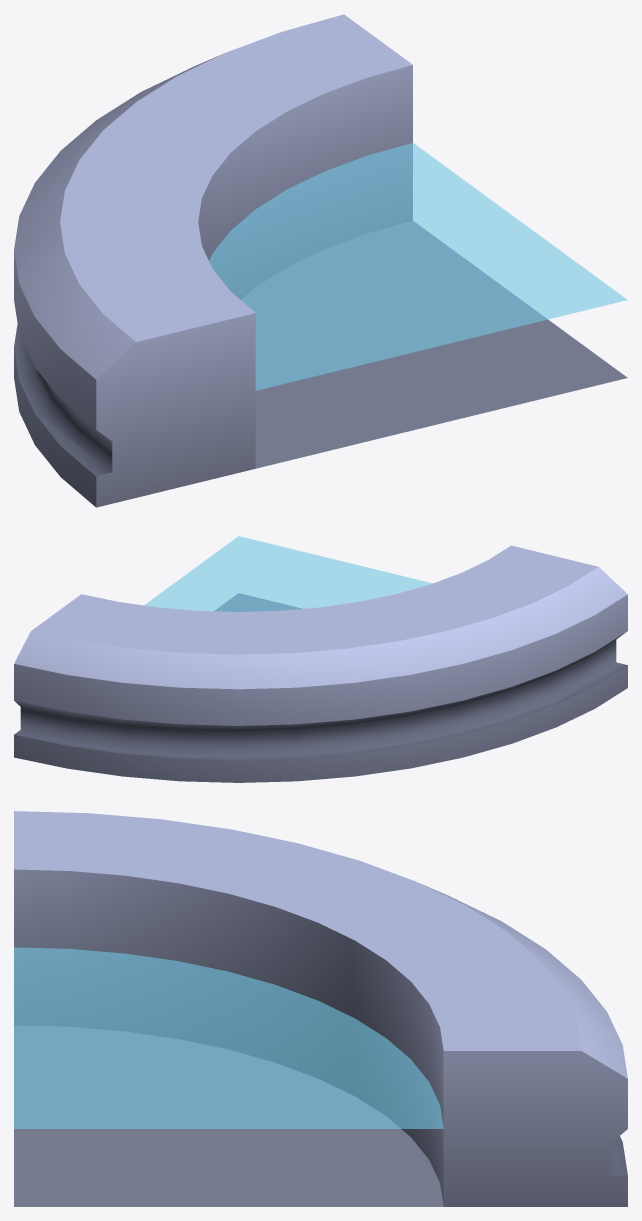
File: fountain-curved.glb
3 views of the same model, one above another, from view 1: azimuth 30°, elevation 25°; view 2: azimuth 150°, elevation 25°; view 3: azimuth 270°, elevation 25° (orthographic). The views are drawn at different scales.
Visible parts, largest first — view 1: fountain-curved, (%ignore); view 2: fountain-curved, (%ignore); view 3: fountain-curved, (%ignore).
Part boxes in pixels (<box>): fountain-curved: <box>14,14,627,507</box>; (%ignore): <box>209,143,627,390</box>; fountain-curved: <box>14,545,627,782</box>; (%ignore): <box>144,536,432,611</box>; fountain-curved: <box>14,811,627,1206</box>; (%ignore): <box>14,947,443,1128</box>.
Size of the model in its own units: 1 by 0.2799 by 1.
2 materials, 1 textured.
